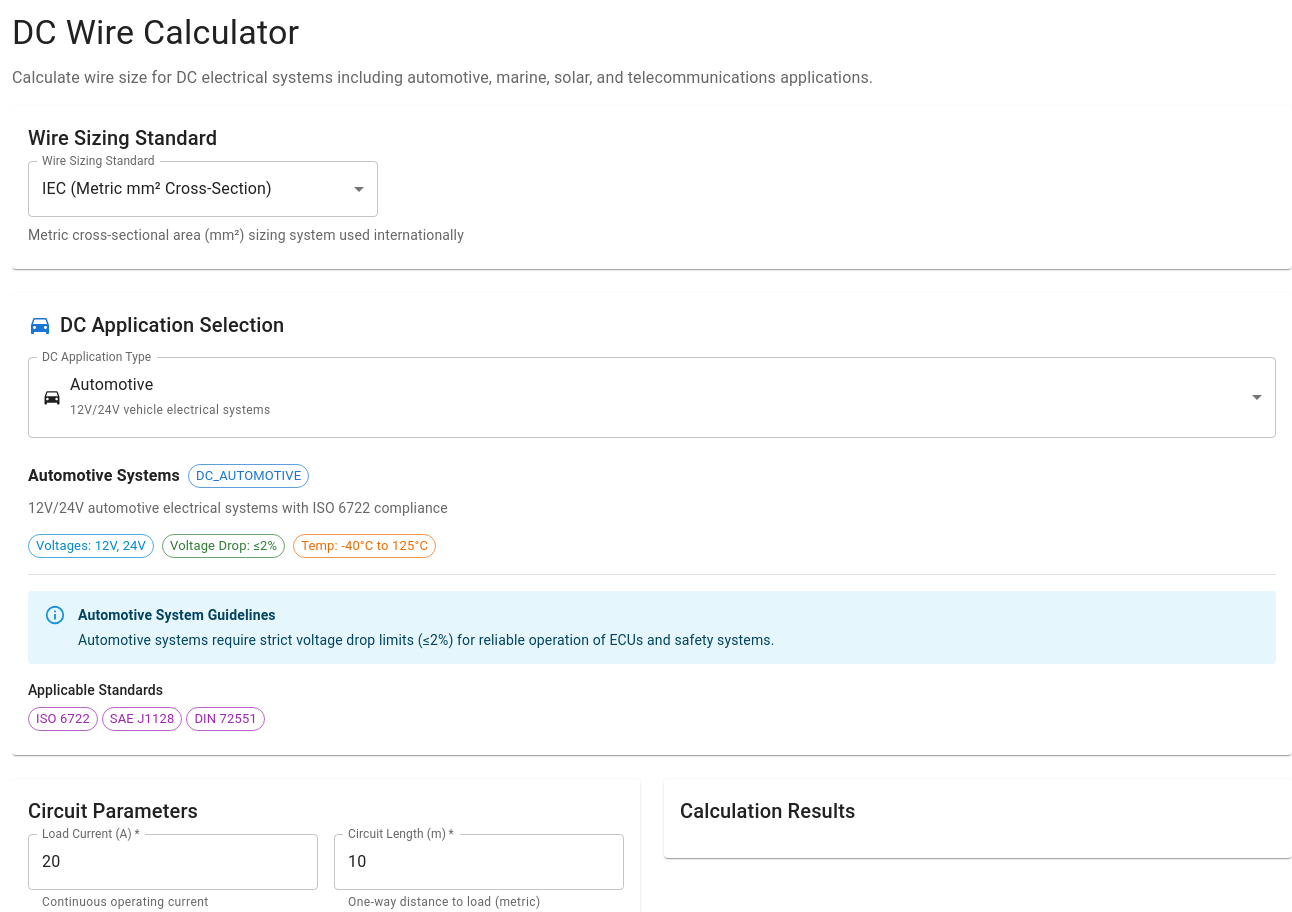
Test: Wire Calculator Input Fields › DCWireCalculator Input Handling › should prevent leading zeros in circuit length field
Type value with leading zeros
Replace the text in the field labelled "Circuit Length (m) *" with "0025": (479, 862) [334,834,624,890]
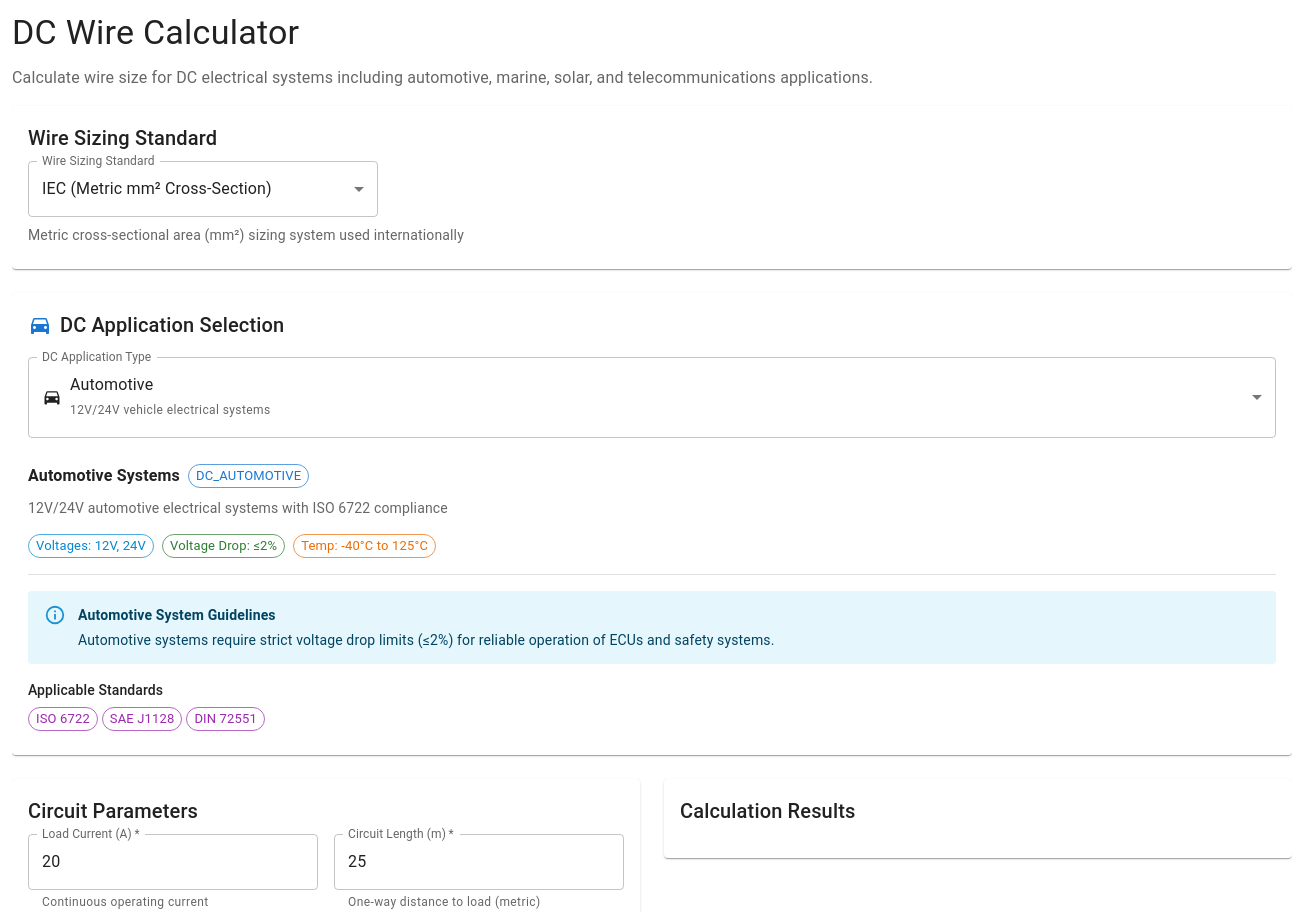
Check: the field labelled "Circuit Length (m) *" holds "25", box [334,834,624,890]
